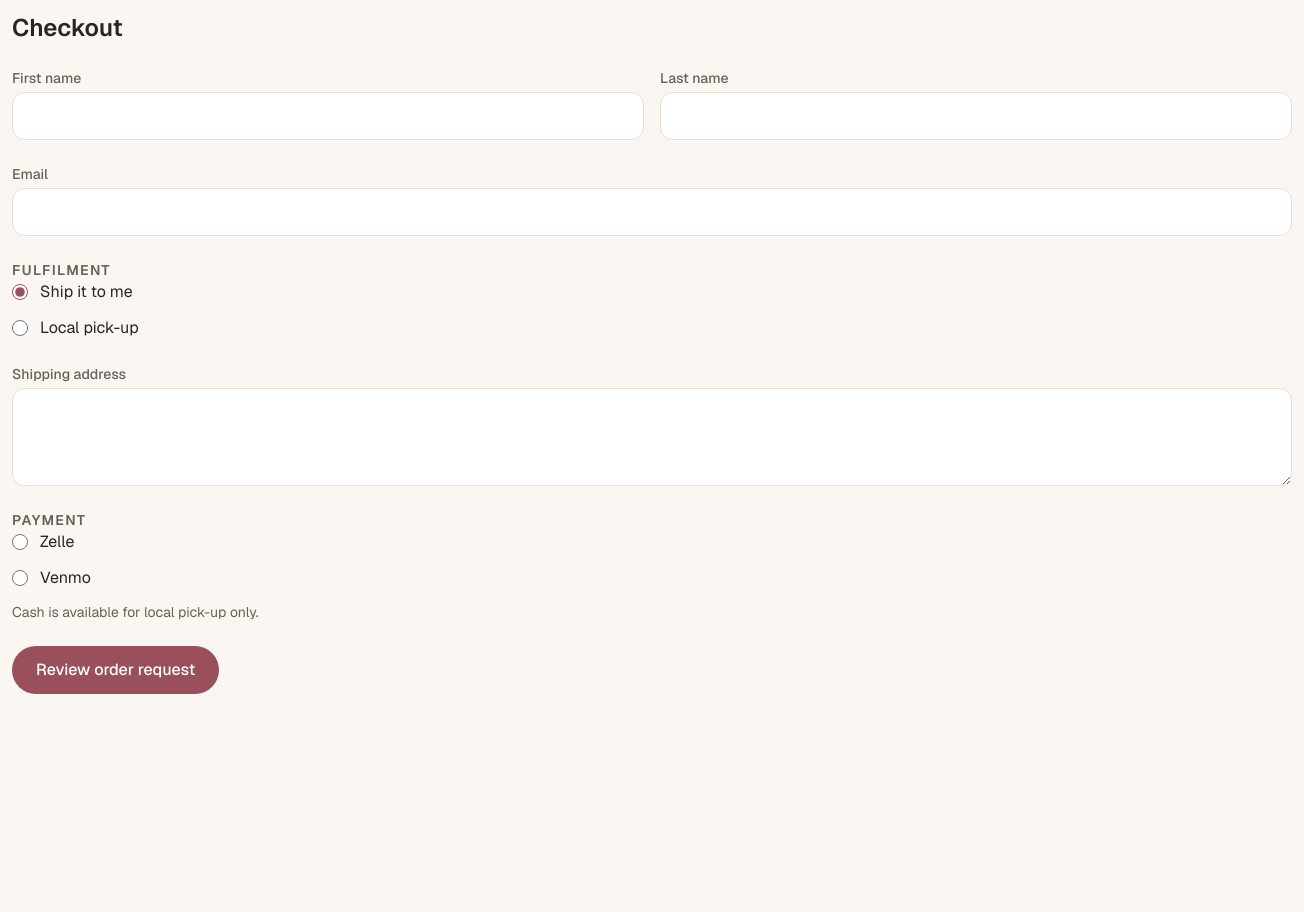
it: OrderForm › [SHOP-13] a valid form produces the summary and empties the cart
The width and height of the screenshot is (1304, 912).
Type "Ada" into the field labelled "First name".
click(328, 116); type("Ada")  # box [12, 92, 644, 140]
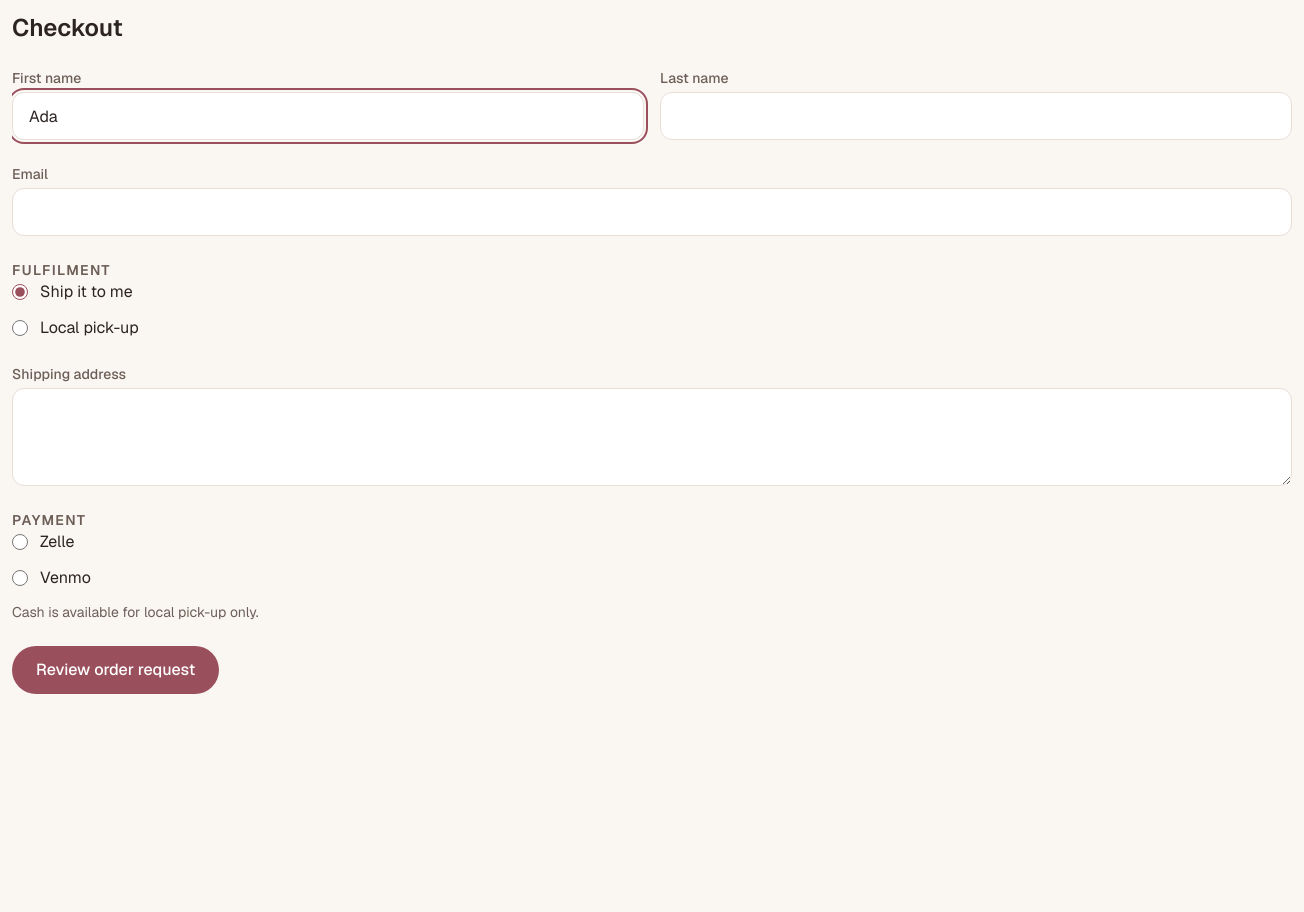
Type "Lovelace" into the field labelled "Last name".
click(976, 116); type("Lovelace")  # box [660, 92, 1292, 140]
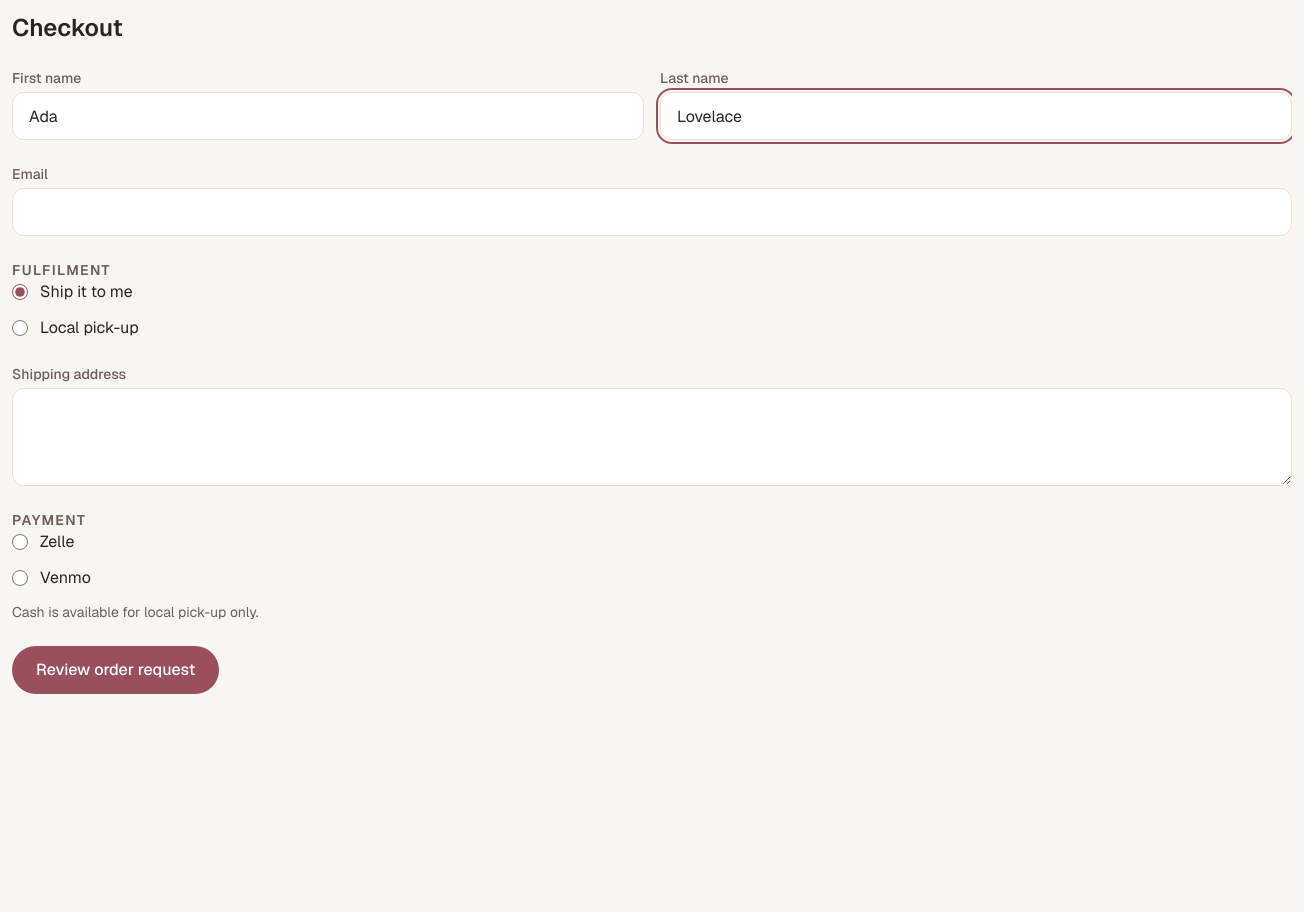
Type "ada@example.com" into the field labelled "Email".
click(652, 212); type("ada@example.com")  # box [12, 188, 1292, 236]
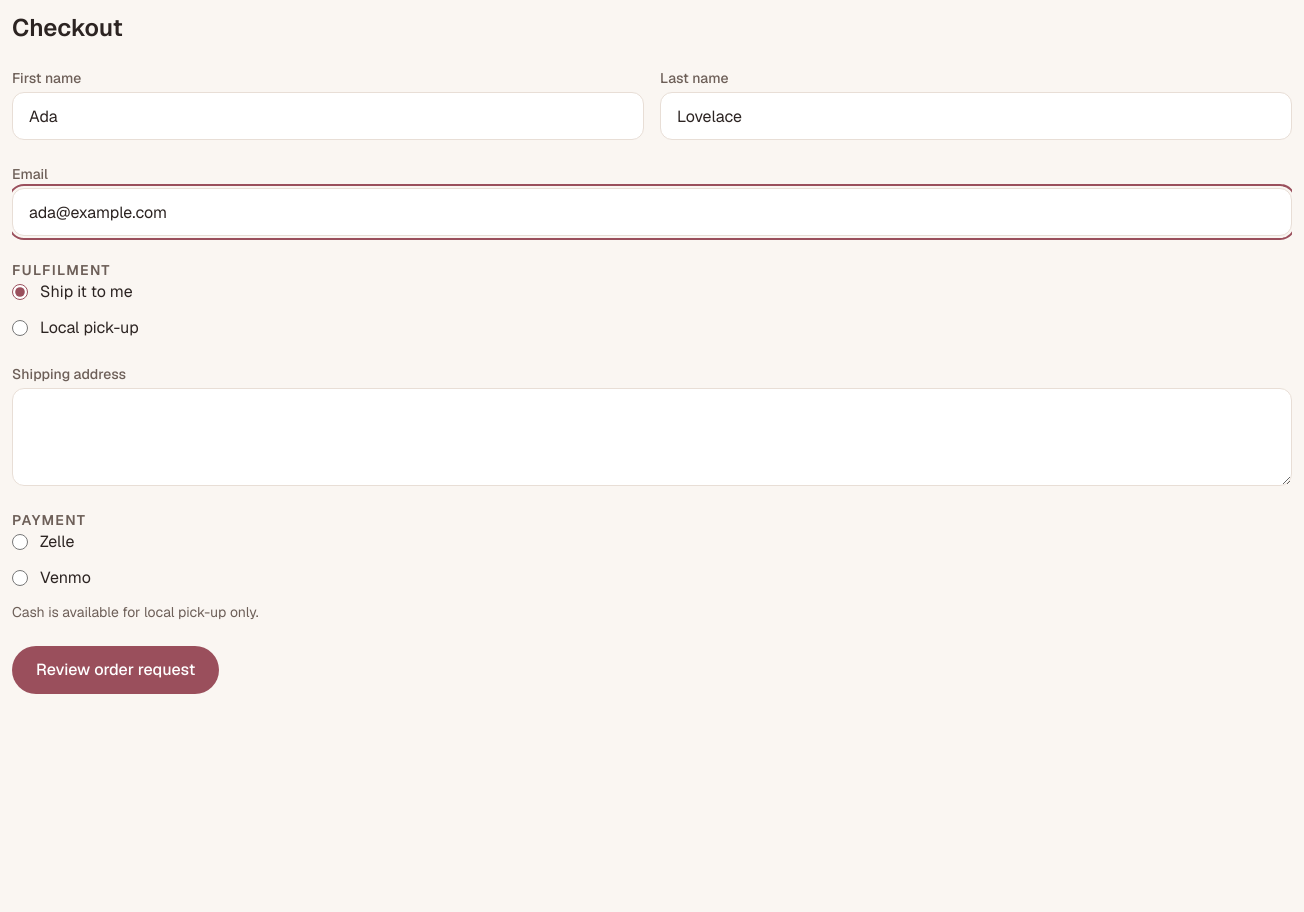
Type "1 Main St" into the text box labelled "Shipping address".
click(652, 437); type("1 Main St")  # box [12, 388, 1292, 486]
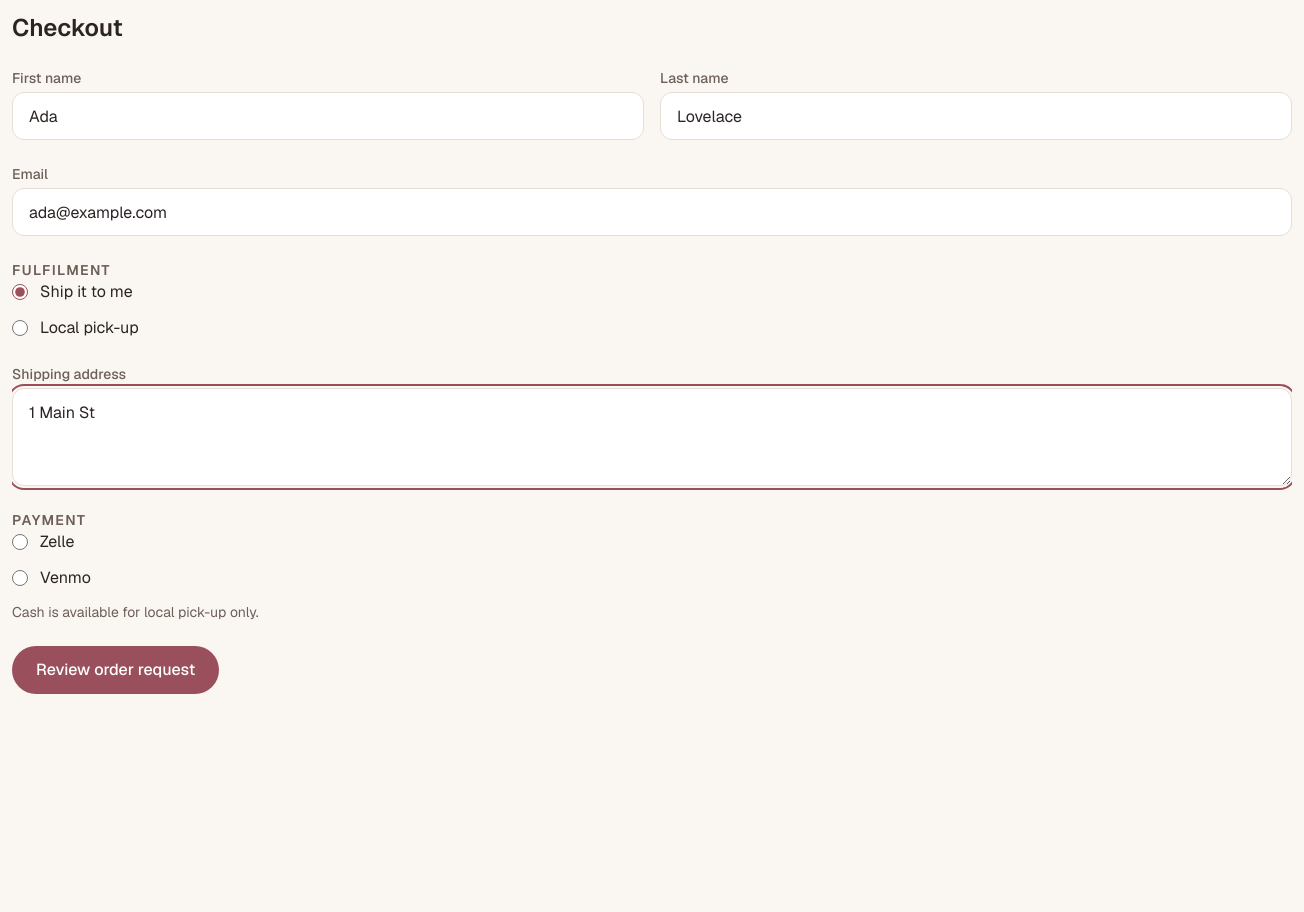
Click the radio button labelled "Zelle".
click(20, 542)  # box [12, 534, 28, 550]
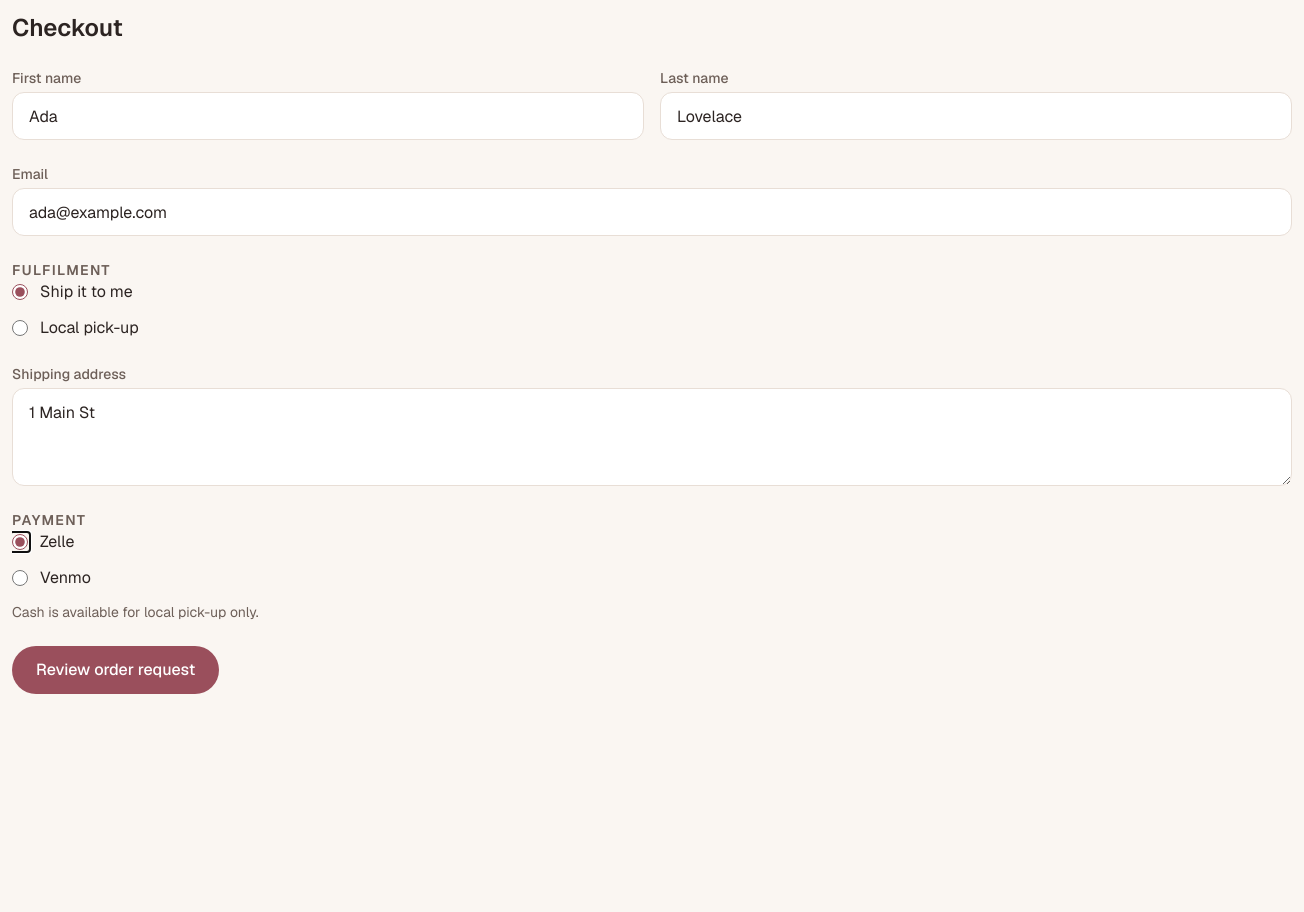
Click the button "Review order request".
click(116, 670)  # box [12, 646, 219, 694]
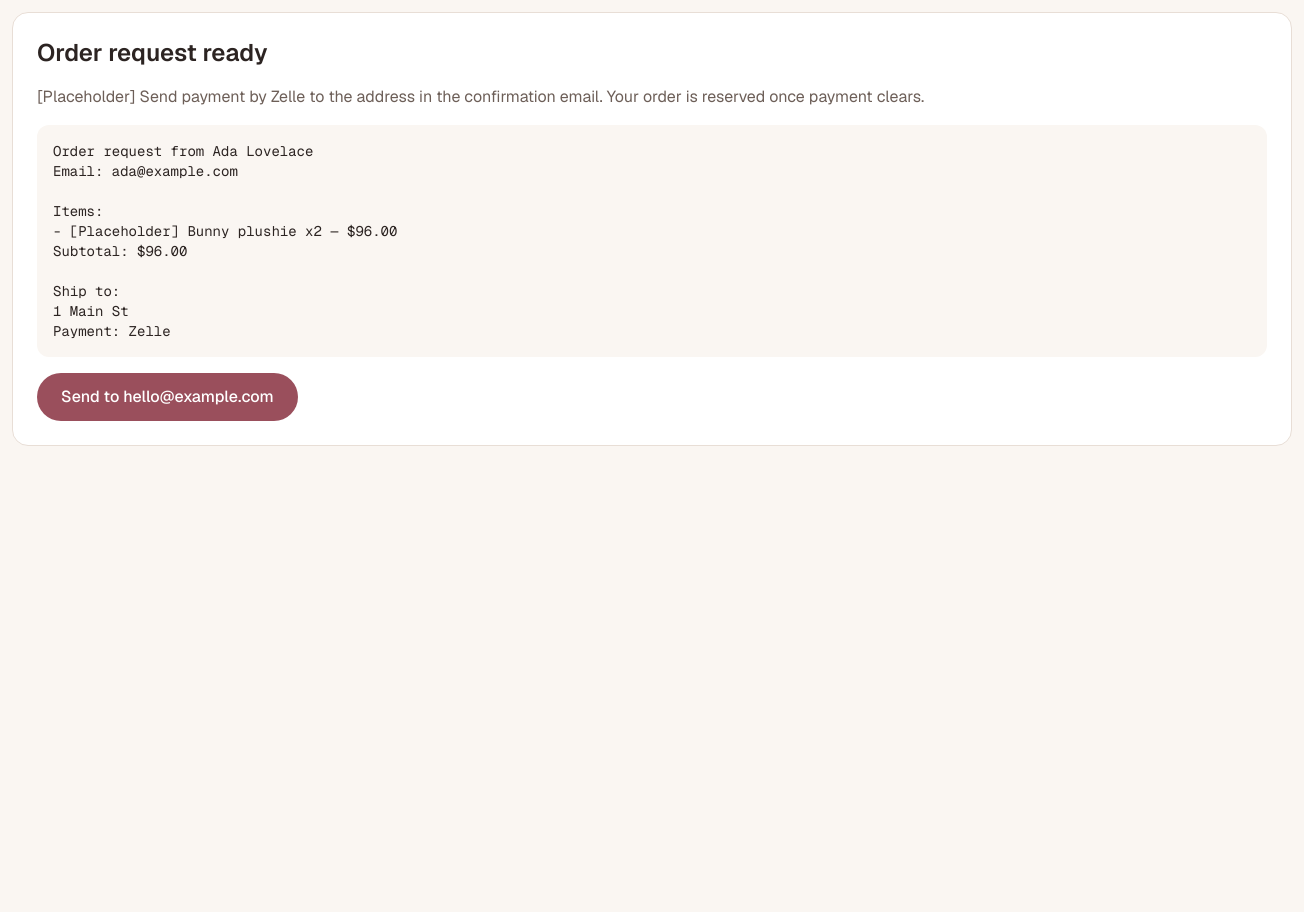
Expected: the heading "Order request ready" is shown, [37, 37, 268, 68]
Expected: the text "Order request from Ada Lovelace" shows "[Placeholder] Bunny plushie", [53, 142, 397, 340]
Expected: the text "Order request from Ada Lovelace" shows "1 Main St", [53, 142, 397, 340]
